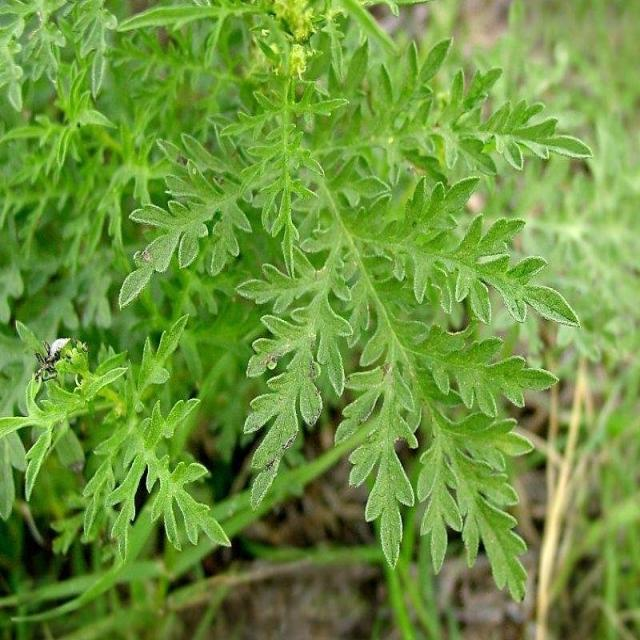ambrosia: (171, 17, 570, 569)
